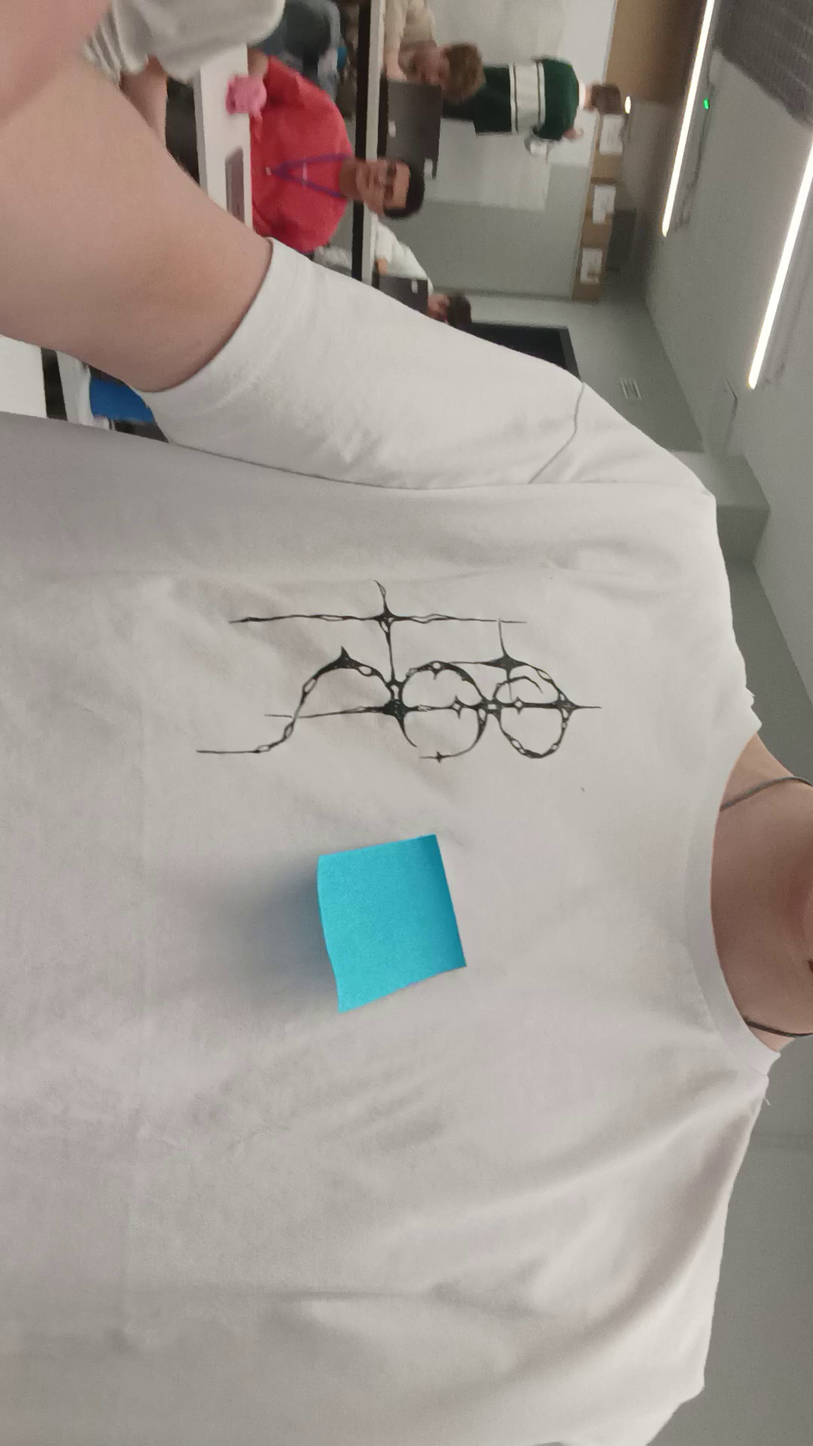marker: (318, 835, 464, 1006)
